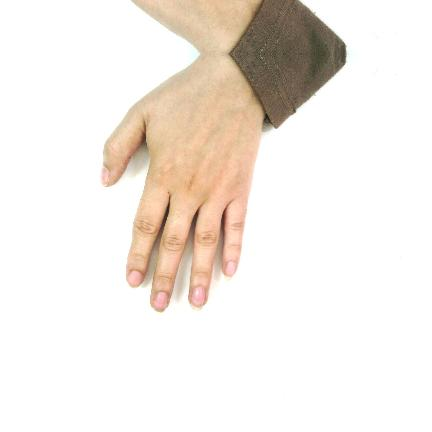Nail: (190, 286, 205, 311), (153, 292, 168, 312), (127, 271, 143, 288), (225, 261, 237, 281), (100, 165, 110, 186)
